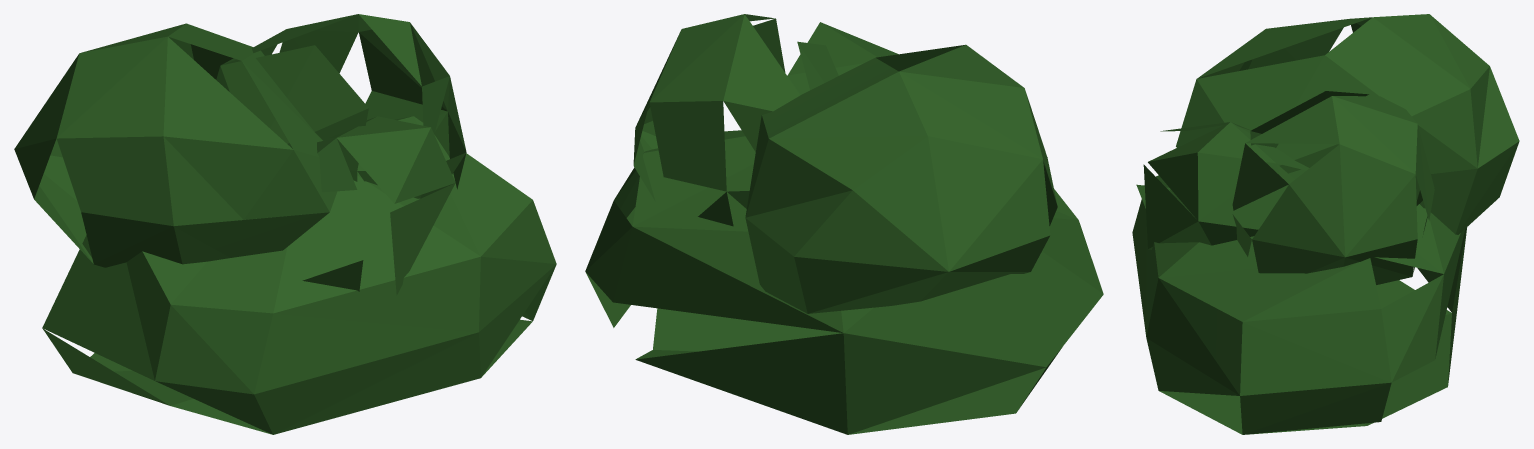
The model's file is Bush3_med.glb.
3 renders of one model, left to right at view 1: azimuth 30°, elevation 25°; view 2: azimuth 150°, elevation 25°; view 3: azimuth 270°, elevation 25°, orthographic. The views are drawn at different scales.
Visible parts, largest first — view 1: Bush_temp_climate_007; view 2: Bush_temp_climate_007; view 3: Bush_temp_climate_007.
Boxes of the visible parts, <box> form: Bush_temp_climate_007: <box>14,14,556,434</box>; Bush_temp_climate_007: <box>585,14,1103,434</box>; Bush_temp_climate_007: <box>1132,14,1519,434</box>.
Size of the model in its own units: 1.2 by 0.8158 by 0.9499.
